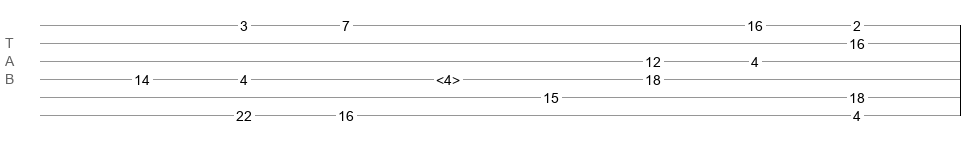12: (645, 54, 661, 64)
14: (134, 72, 150, 82)
15: (543, 90, 559, 100)
16: (338, 108, 354, 118), (747, 18, 763, 28), (849, 36, 865, 46)
18: (645, 72, 661, 82), (849, 90, 865, 100)
2: (853, 18, 861, 28)
22: (236, 108, 252, 118)
3: (240, 18, 248, 28)
4: (240, 72, 248, 82), (751, 54, 759, 64), (853, 108, 861, 118)
7: (342, 18, 350, 28)
harmonic: (436, 72, 460, 82)
